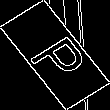P_NE: (19, 25, 91, 85)
